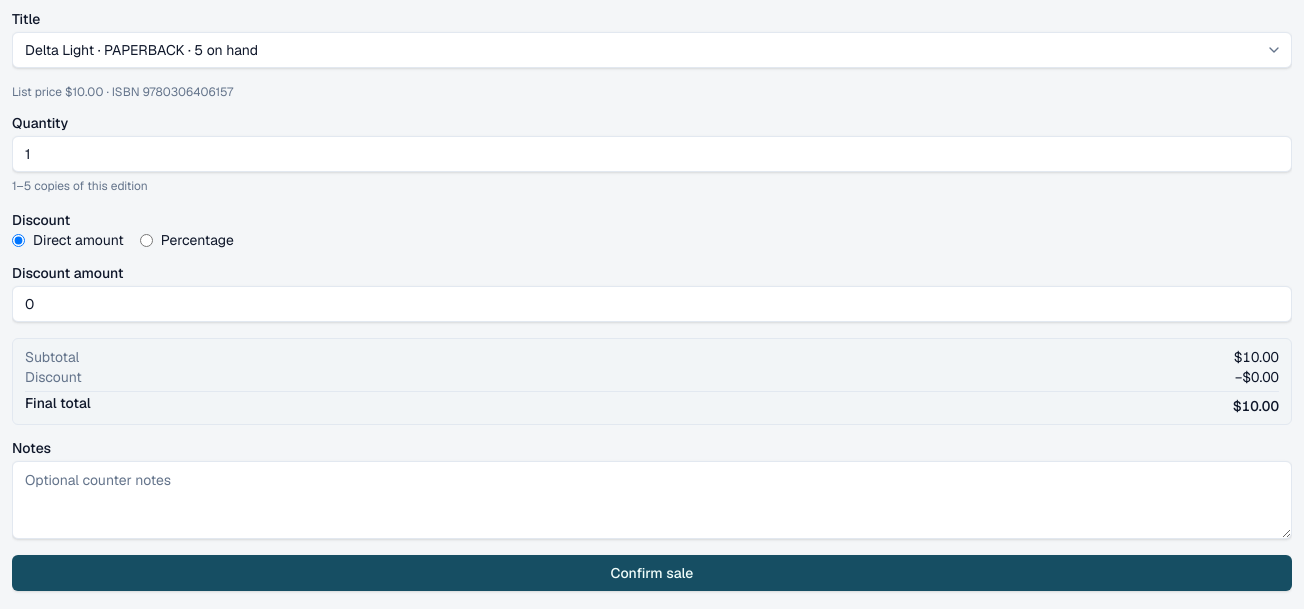
it: TitleSaleForm › updates the live total when quantity and amount discount change
Replace the text in the number field labelled "Quantity" with "3": (652, 154) [12,136,1292,172]
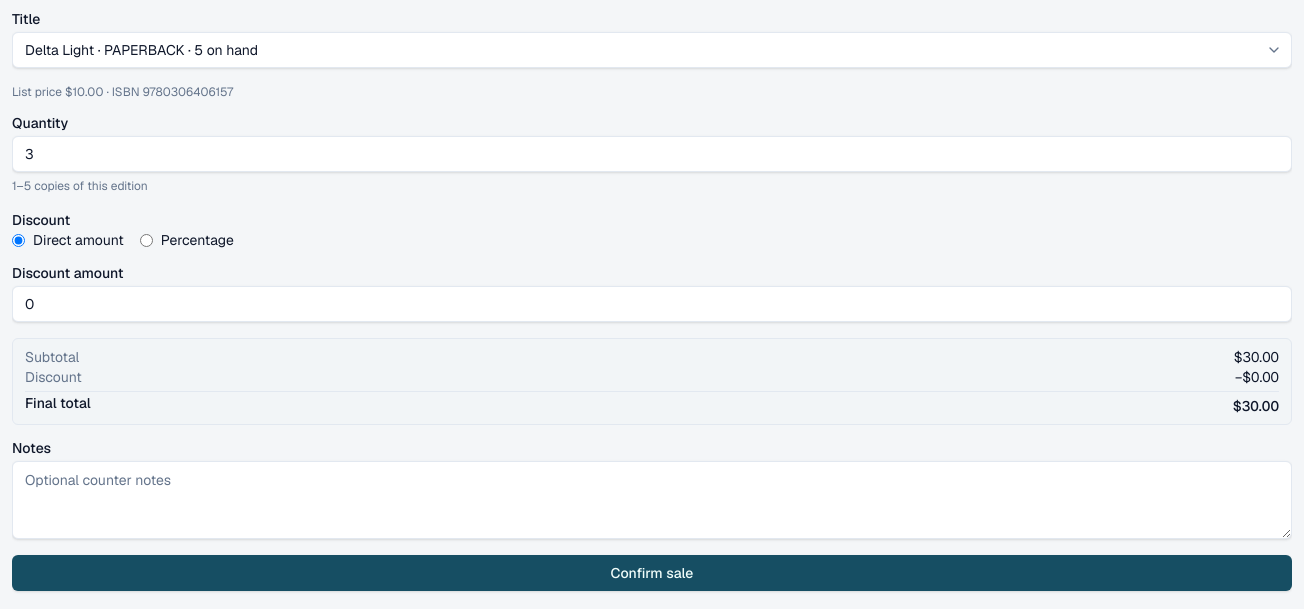
Replace the text in the field labelled "Discount amount" with "1.50": (652, 304) [12,286,1292,322]
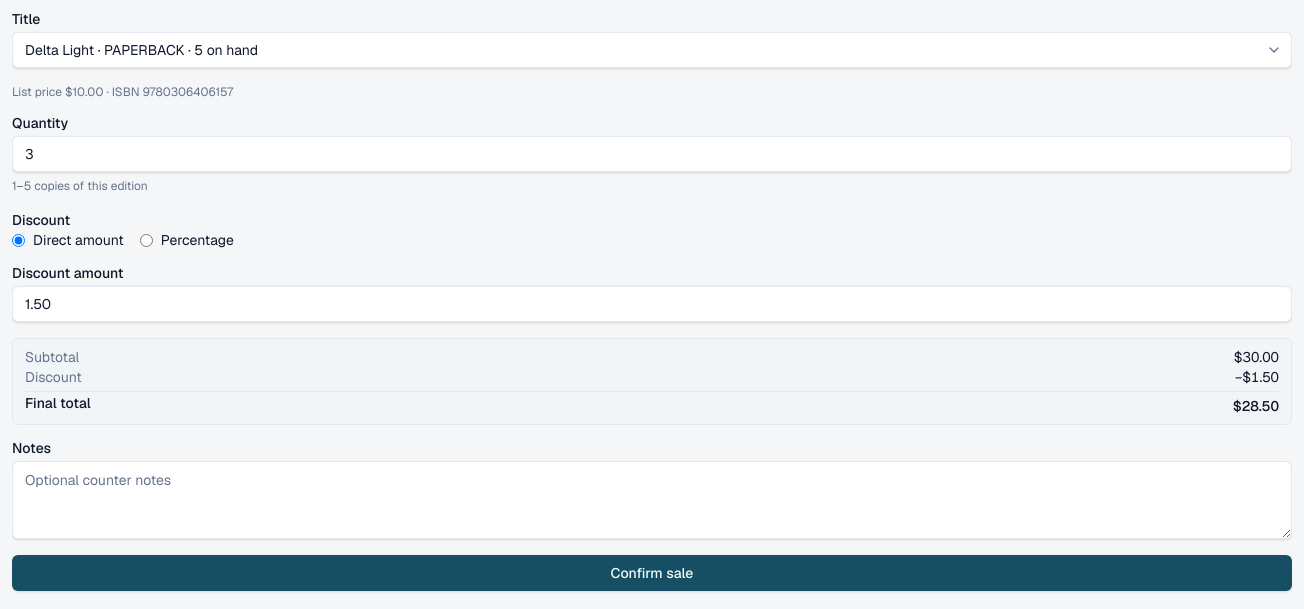
Now the text "$30.00" is shown, box [1234,347,1279,367]
Now the text "−$1.50" is shown, box [1235,367,1279,387]
Now the text "$28.50" is shown, box [1233,396,1279,416]
